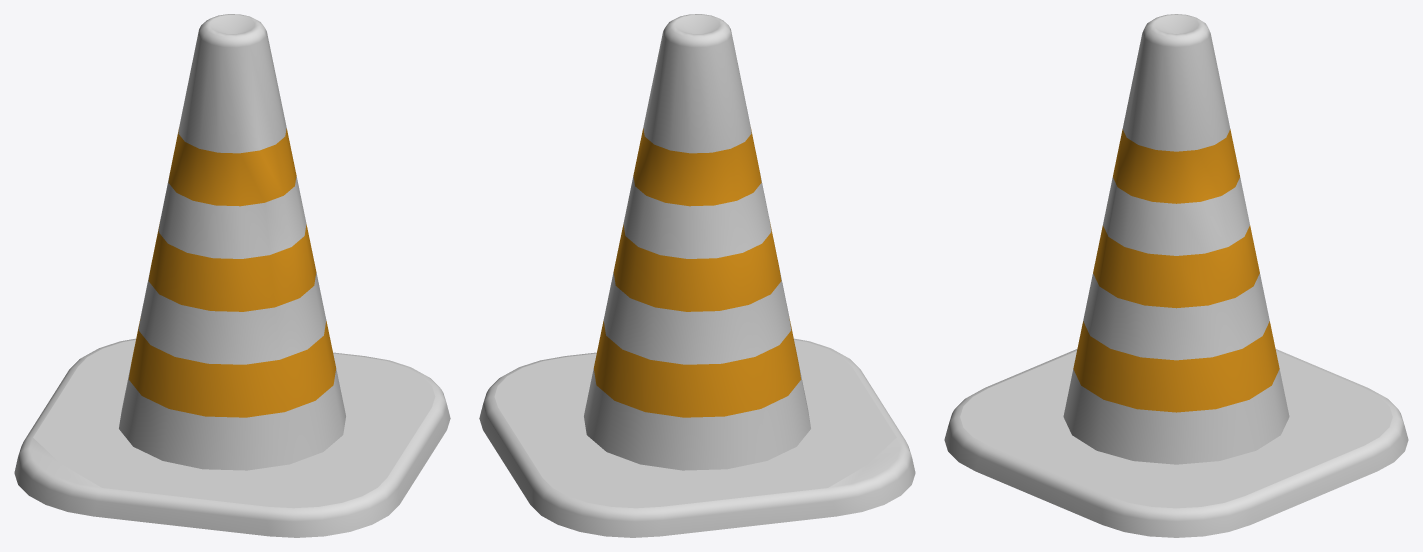
3 renders of one model, left to right at view 1: azimuth 30°, elevation 25°; view 2: azimuth 150°, elevation 25°; view 3: azimuth 270°, elevation 25°, orthographic.
Visible parts, largest first — view 1: Stkm_WorkSet_TrafficCone; view 2: Stkm_WorkSet_TrafficCone; view 3: Stkm_WorkSet_TrafficCone.
Part boxes in pixels (x1,y1,x2,y2): Stkm_WorkSet_TrafficCone: (14,14,450,537); Stkm_WorkSet_TrafficCone: (479,14,915,537); Stkm_WorkSet_TrafficCone: (944,14,1408,537).
Bounding box in the file's own units: 493 × 487 × 493.
